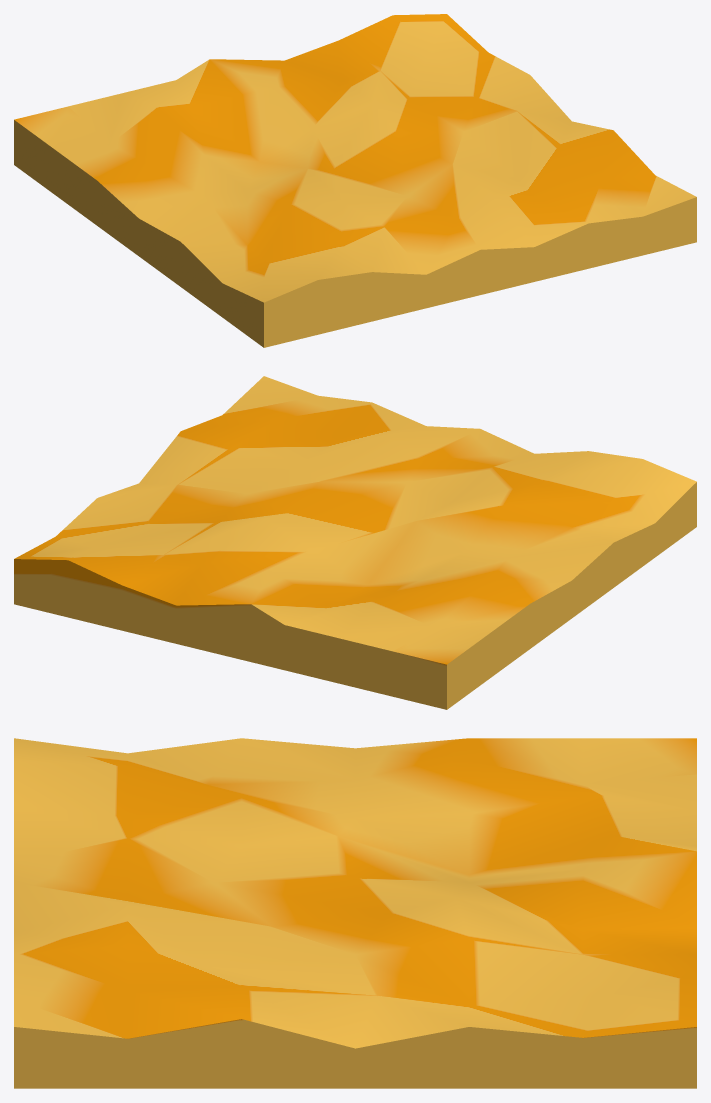
The model's file is lava top.fbx.
3 renders of one model, top to bottom at view 1: azimuth 30°, elevation 25°; view 2: azimuth 150°, elevation 25°; view 3: azimuth 270°, elevation 25°, orthographic. The views are drawn at different scales.
Visible parts, largest first — view 1: pCube1; view 2: pCube1; view 3: pCube1.
Boxes of the visible parts, box(x1,y1,x2,y2) form: pCube1: box(14, 14, 696, 347); pCube1: box(14, 376, 696, 709); pCube1: box(14, 738, 696, 1088).
Size of the model in its own units: 5 by 0.6687 by 5.
